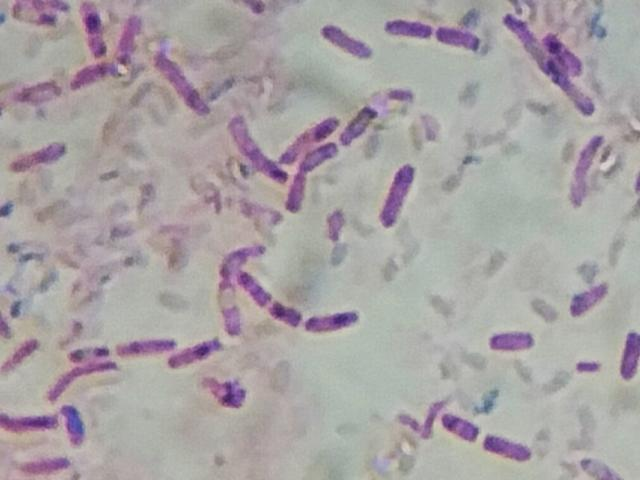E. coli: (506, 15, 594, 126), (154, 49, 215, 109), (233, 117, 282, 191), (288, 148, 336, 214), (566, 128, 605, 206), (380, 158, 415, 236), (282, 107, 332, 154), (322, 19, 374, 64), (51, 364, 110, 402), (213, 279, 248, 341), (10, 144, 74, 176), (378, 4, 429, 44), (15, 448, 75, 479), (304, 310, 365, 339), (170, 339, 221, 372), (2, 334, 38, 380), (0, 405, 54, 435), (570, 275, 608, 316), (82, 5, 110, 60), (434, 407, 474, 444), (119, 12, 146, 65), (436, 19, 478, 53), (490, 319, 531, 352), (73, 64, 120, 91), (488, 432, 529, 462), (339, 104, 370, 143), (63, 404, 93, 443), (119, 331, 166, 354), (23, 79, 64, 104), (623, 329, 640, 384), (62, 338, 105, 359), (242, 267, 266, 298), (270, 304, 299, 327)
